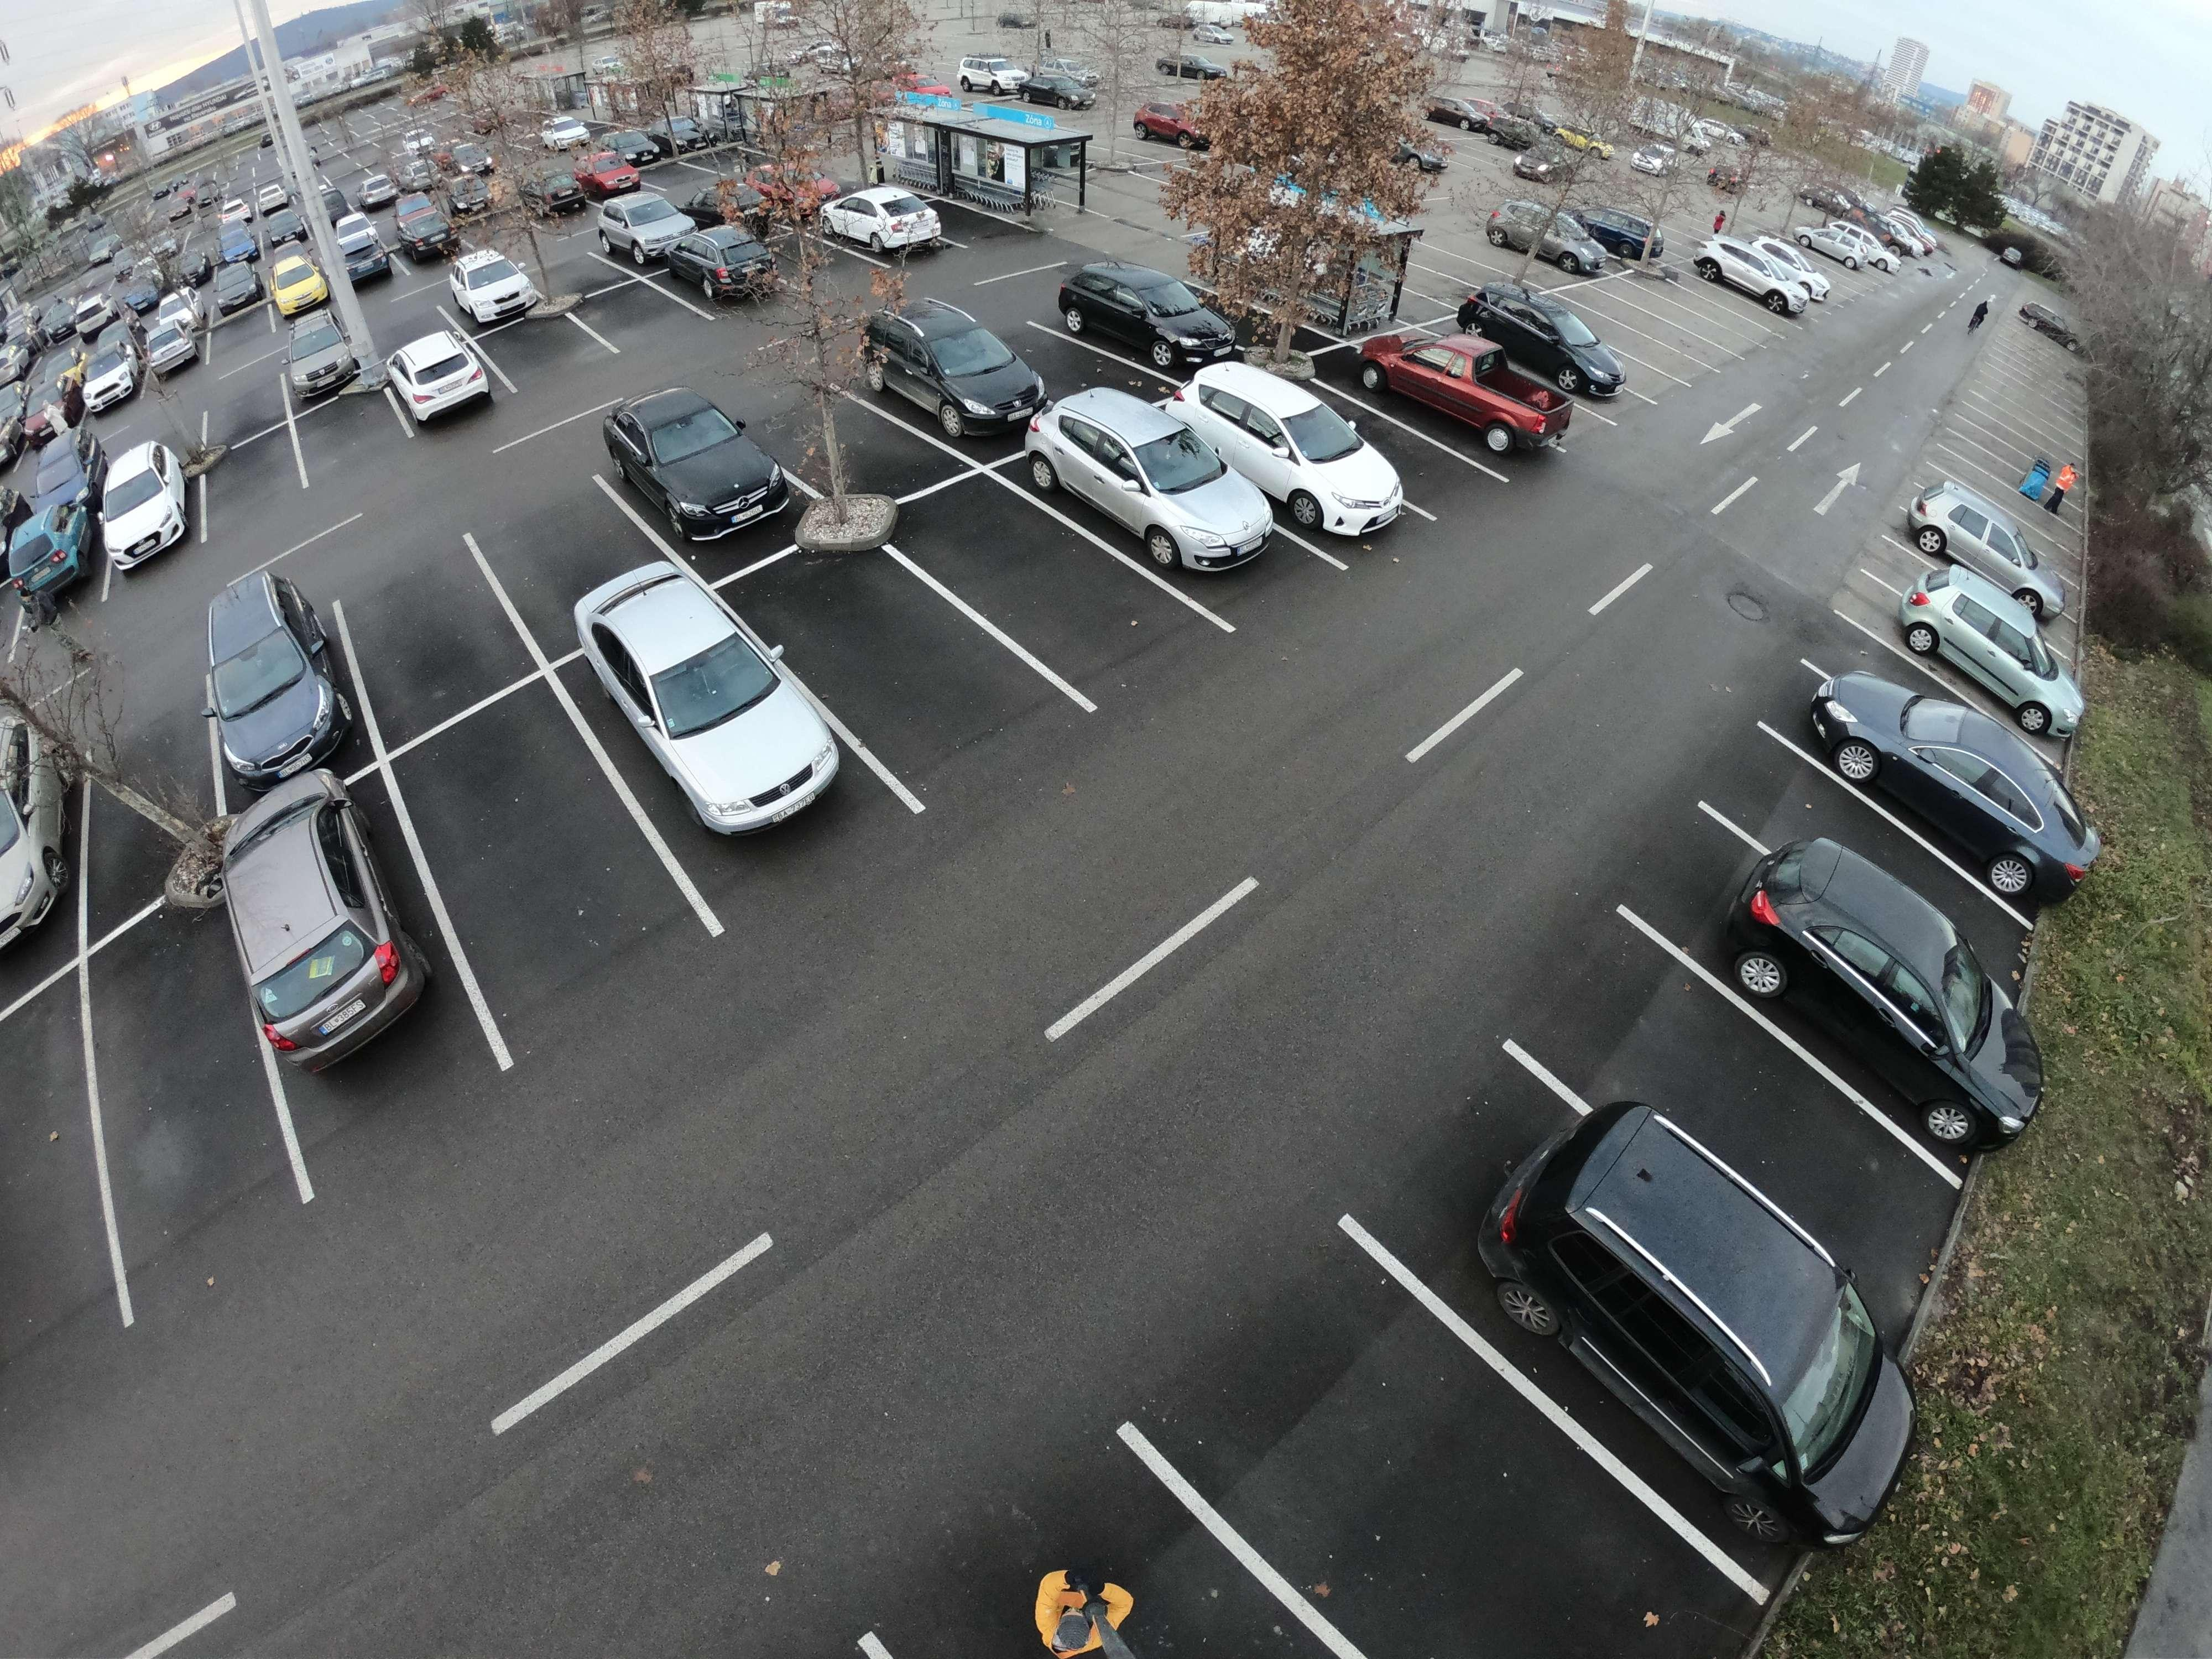empty: (1463, 1072, 1905, 1530), (1719, 816, 2024, 1124), (570, 570, 859, 843), (1803, 666, 2090, 884), (226, 775, 423, 1061), (1045, 403, 1275, 586), (179, 570, 364, 781), (1205, 373, 1397, 540), (601, 383, 805, 538), (1895, 575, 2078, 728), (1353, 333, 1552, 455), (2, 666, 78, 971), (869, 301, 1045, 430), (1057, 258, 1240, 366), (1472, 284, 1634, 403), (1905, 484, 2066, 599), (98, 434, 206, 573), (387, 329, 498, 434), (817, 174, 949, 258), (650, 225, 780, 307), (1705, 230, 1817, 315), (1489, 200, 1616, 268), (448, 260, 545, 329), (73, 336, 146, 413), (603, 190, 691, 251), (282, 333, 361, 401), (1799, 223, 1888, 279), (146, 308, 209, 378), (277, 246, 341, 312), (531, 164, 610, 218), (338, 225, 394, 288), (390, 209, 462, 258), (214, 272, 270, 331)
occupied: (1318, 1419, 1620, 1636), (1655, 1026, 1879, 1182), (1797, 795, 1977, 925), (105, 960, 240, 1121), (441, 784, 606, 897), (1345, 404, 1484, 518), (833, 620, 975, 721), (366, 603, 481, 685), (974, 540, 1090, 615), (207, 376, 291, 434), (218, 450, 291, 511), (519, 521, 604, 573), (310, 406, 387, 457), (796, 422, 880, 467), (503, 328, 582, 373), (780, 244, 840, 288), (594, 296, 662, 333), (543, 251, 604, 291)
